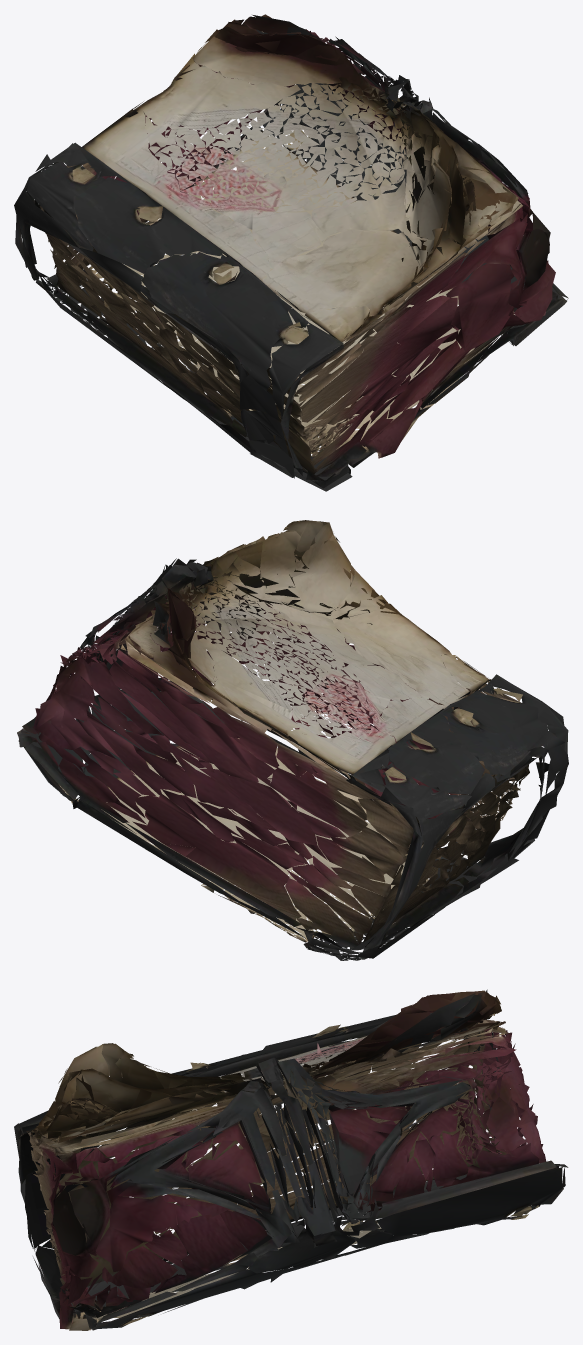
Rendered from drop_security_log.glb.
3 renders of one model, top to bottom at view 1: azimuth 30°, elevation 25°; view 2: azimuth 150°, elevation 25°; view 3: azimuth 270°, elevation 25°, orthographic. The views are drawn at different scales.
Visible parts, largest first — view 1: node_0; view 2: node_0; view 3: node_0.
Part boxes in pixels (x1,y1,x2,y2): node_0: [14, 14, 568, 491]; node_0: [17, 520, 568, 960]; node_0: [14, 989, 568, 1330].
Size of the model in its own units: 0.9371 by 0.7387 by 0.9806.
1 material, 1 textured.
